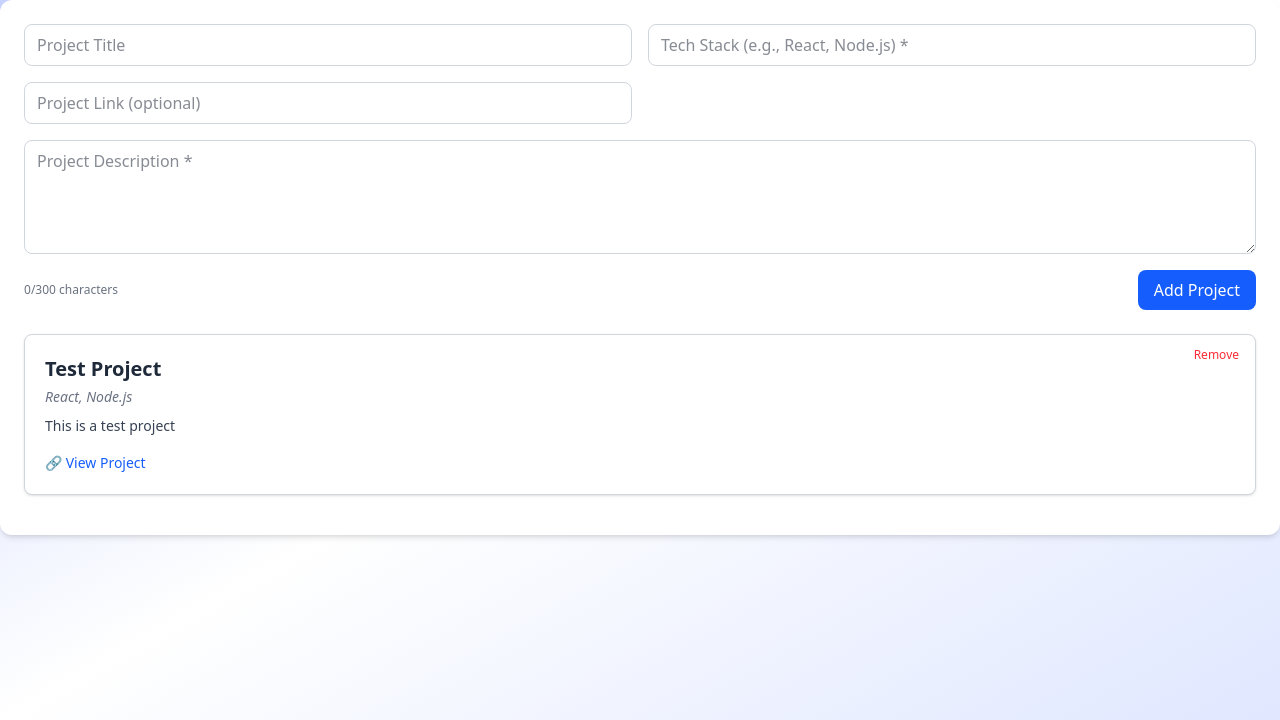
Test: Projects Component › updates character count while typing description
Type "12345" into the text box with placeholder "Project Description *".
click(640, 197); type("12345")  # box [24, 140, 1256, 254]
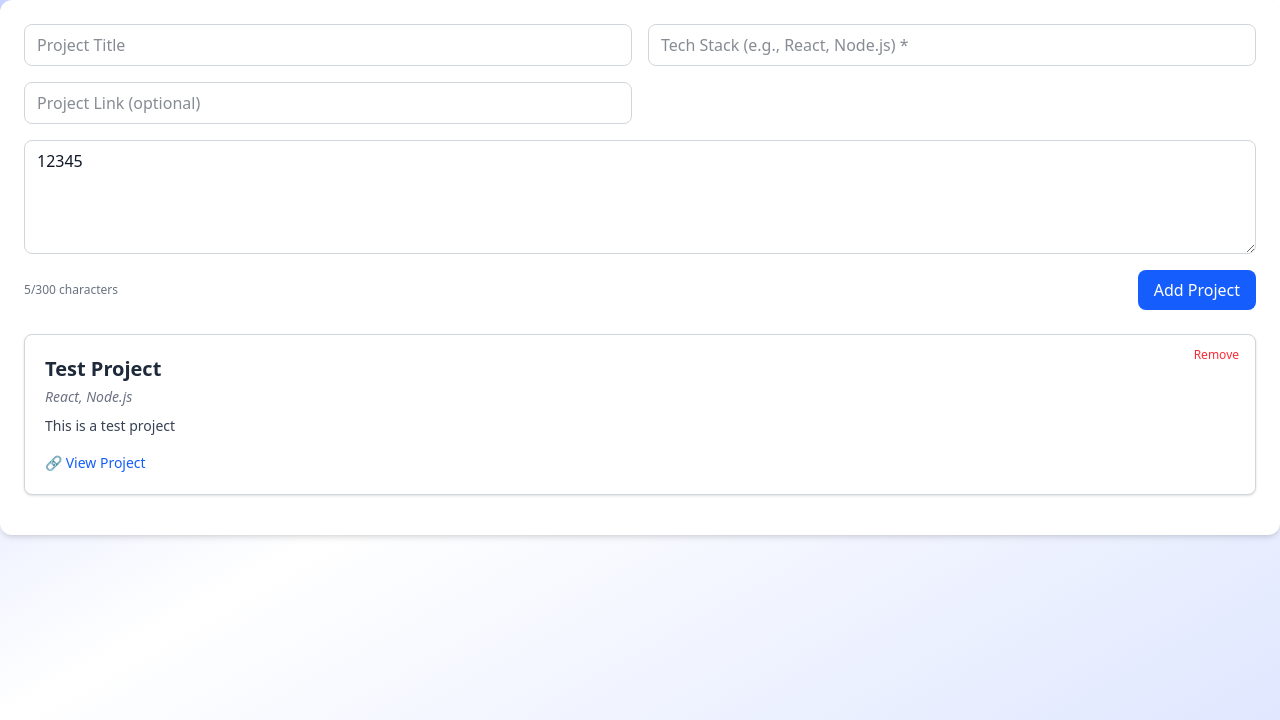
Check: the text "5/300 characters" is shown, box [24, 282, 118, 298]
